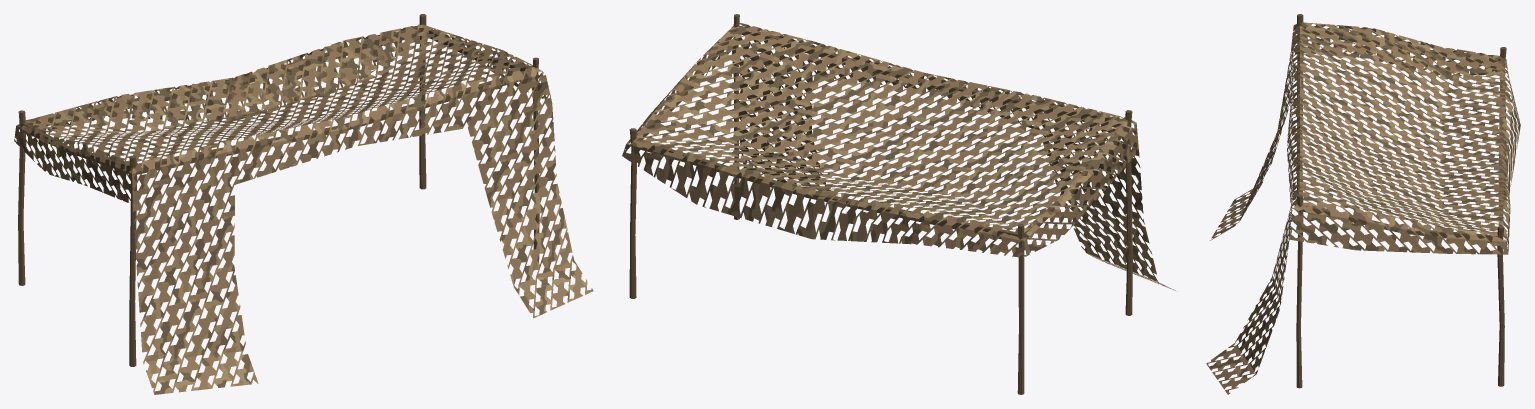
The model's file is SM_Bld_CamoNet_Tent_03.glb.
The picture shows the model from 3 angles, left to right: view 1: azimuth 30°, elevation 25°; view 2: azimuth 150°, elevation 25°; view 3: azimuth 270°, elevation 25°; orthographic projection. The views are drawn at different scales.
Parts seen in each view (by area): view 1: SM_Bld_CamoNet_Tent_03; view 2: SM_Bld_CamoNet_Tent_03; view 3: SM_Bld_CamoNet_Tent_03.
Boxes of the visible parts, x1,y1,x2,y2 form: SM_Bld_CamoNet_Tent_03: [14, 14, 593, 394]; SM_Bld_CamoNet_Tent_03: [622, 14, 1175, 394]; SM_Bld_CamoNet_Tent_03: [1206, 14, 1520, 394].
Size of the model in its own units: 8.11 by 3.72 by 5.53.
Materials: 2 (2 with a texture image).
